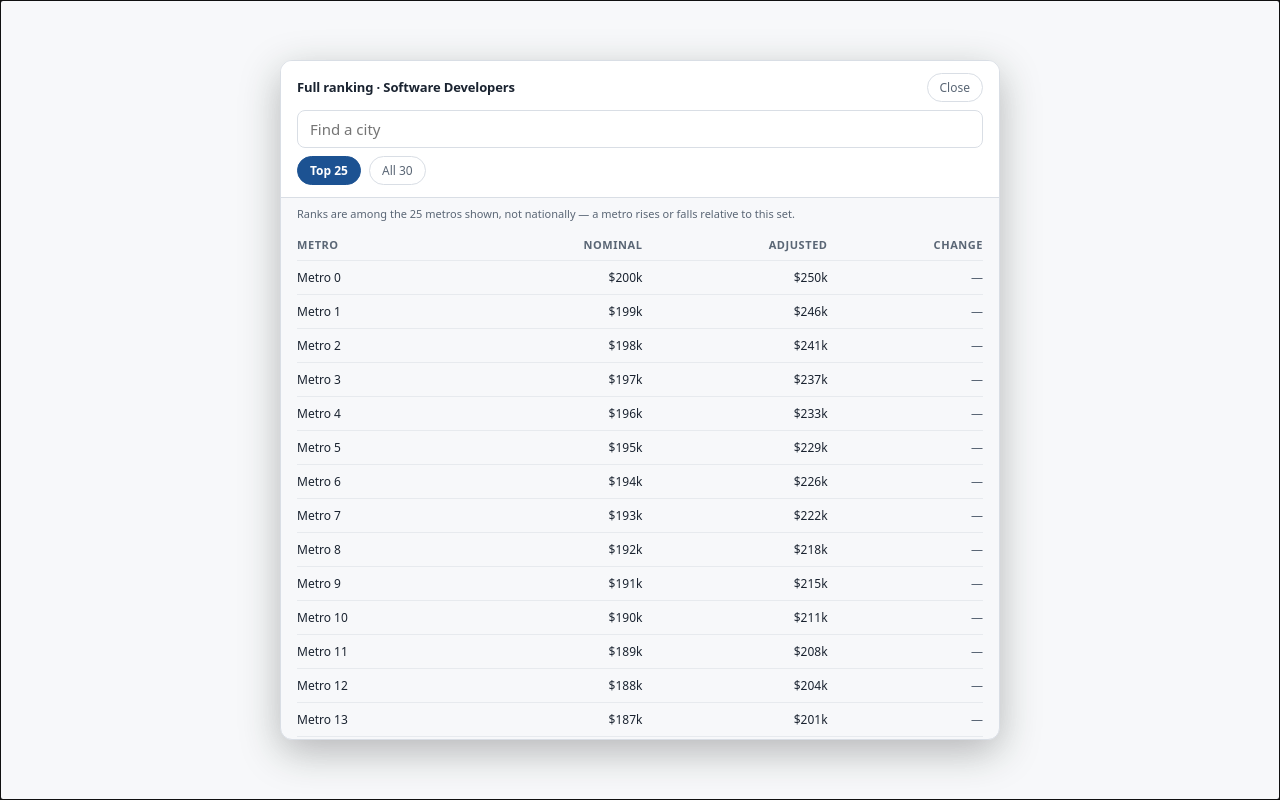
SlopeExplorer › choosing a metro outside the current count widens the set so its row exists
# Metro 28 is 29th by pay — outside Top 25.
Type "Metro 28," into the search field at (640, 129), box [297, 110, 983, 148]
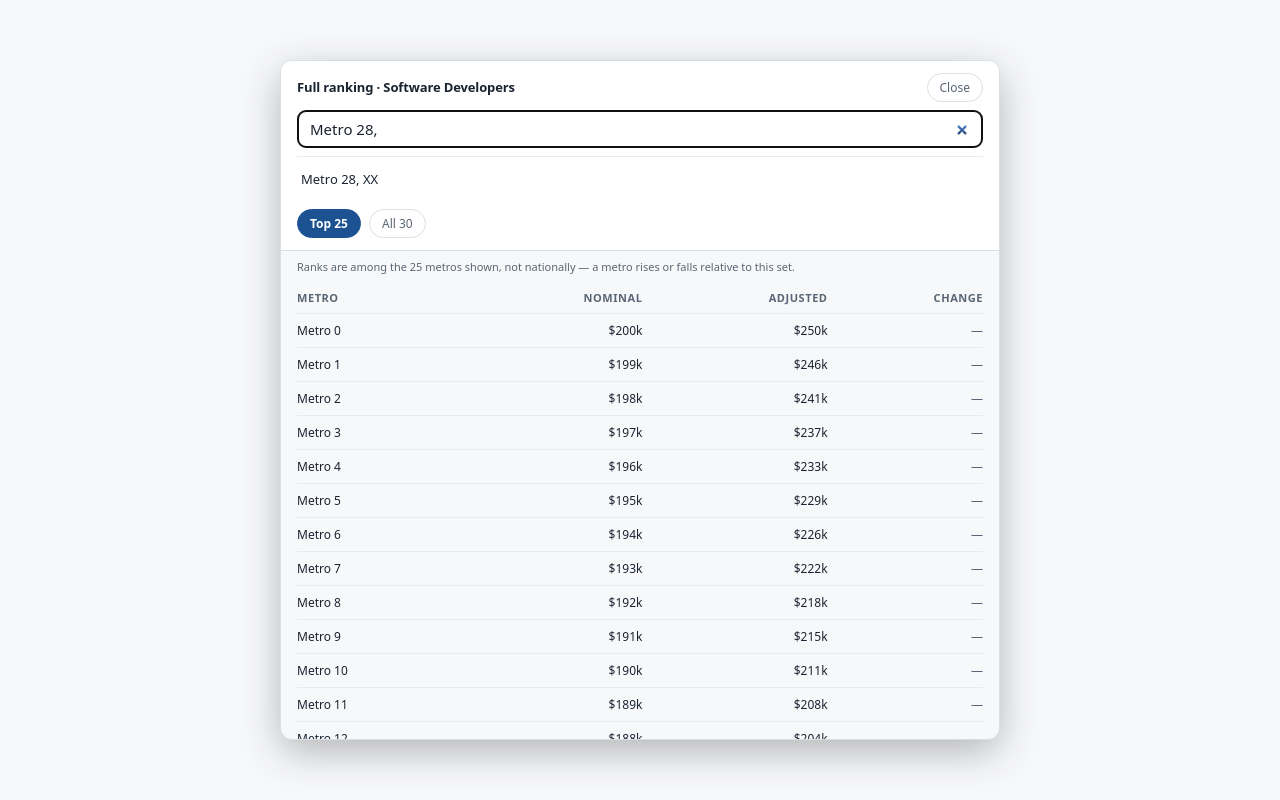
Click the button "Metro 28, XX" at (340, 179), box [297, 157, 983, 201]
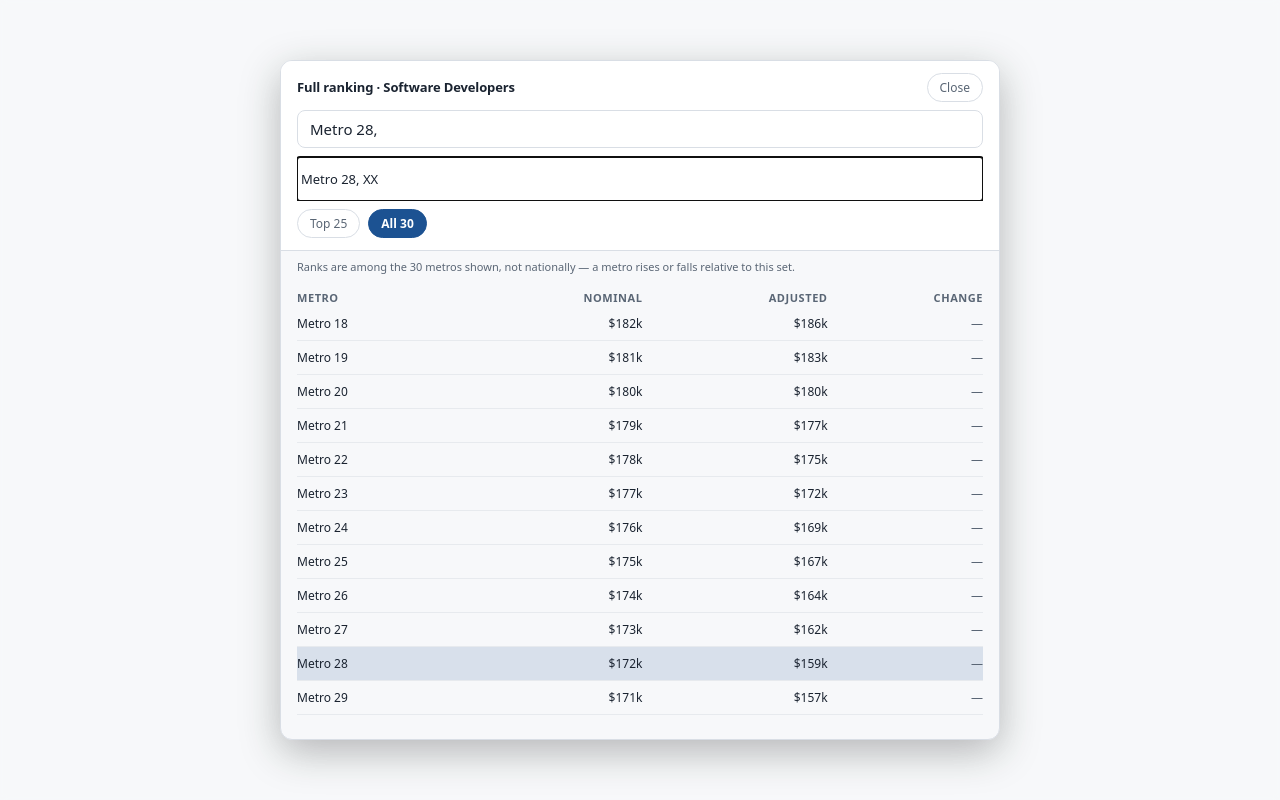
Check: the row "Metro 28 $172k $159k —" is shown, box [297, 646, 983, 680]
